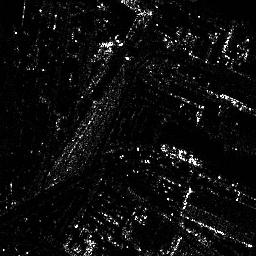ship: (160, 139, 202, 167)
